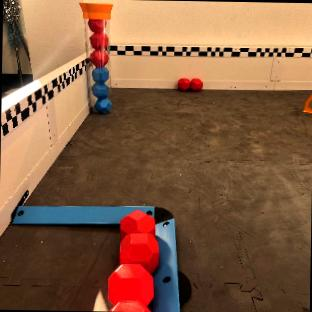Loader: (81, 3, 110, 110)
Parking - B: (12, 206, 179, 312)
V5_BLUE: (92, 67, 110, 112)
V5_RED: (108, 210, 160, 311), (108, 263, 154, 311), (89, 20, 108, 65), (110, 300, 149, 311)
